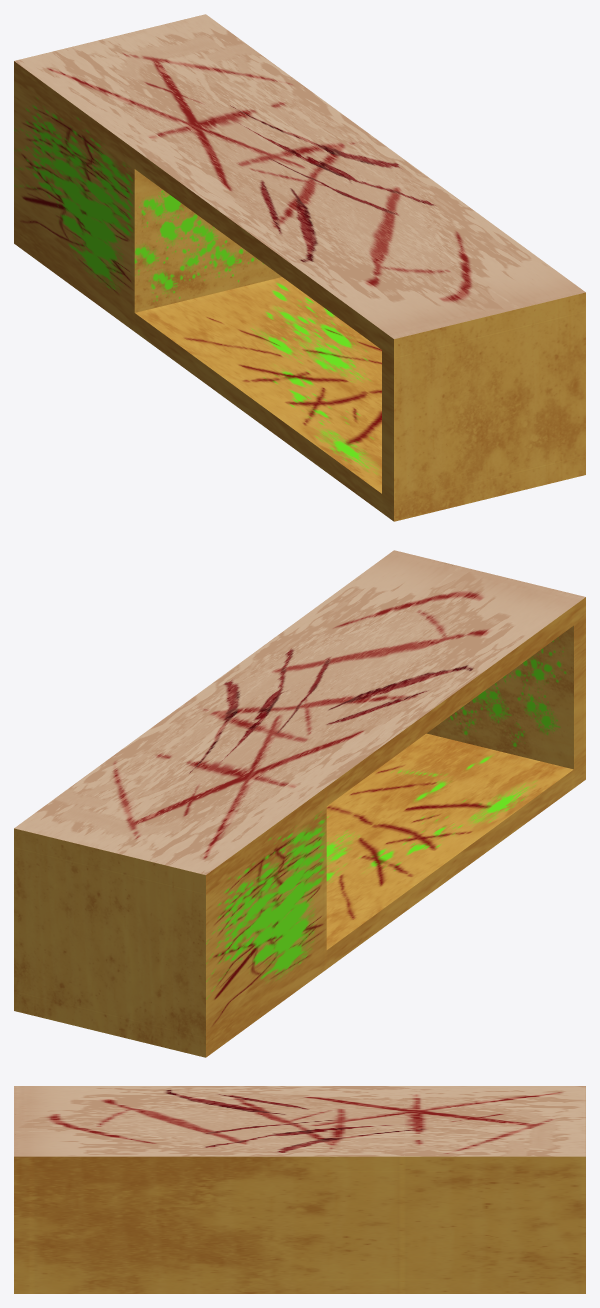
The model's file is Counter1.fbx.
3 renders of one model, top to bottom at view 1: azimuth 30°, elevation 25°; view 2: azimuth 150°, elevation 25°; view 3: azimuth 270°, elevation 25°, orthographic. The views are drawn at different scales.
Parts seen in each view (by area): view 1: Counter 1; view 2: Counter 1; view 3: Counter 1.
Boxes of the visible parts, x1=… form: Counter 1: x1=14, y1=14, x2=585, y2=521; Counter 1: x1=14, y1=550, x2=585, y2=1057; Counter 1: x1=14, y1=1086, x2=585, y2=1293.
Bounding box in the file's own units: 110 × 100 × 377.
